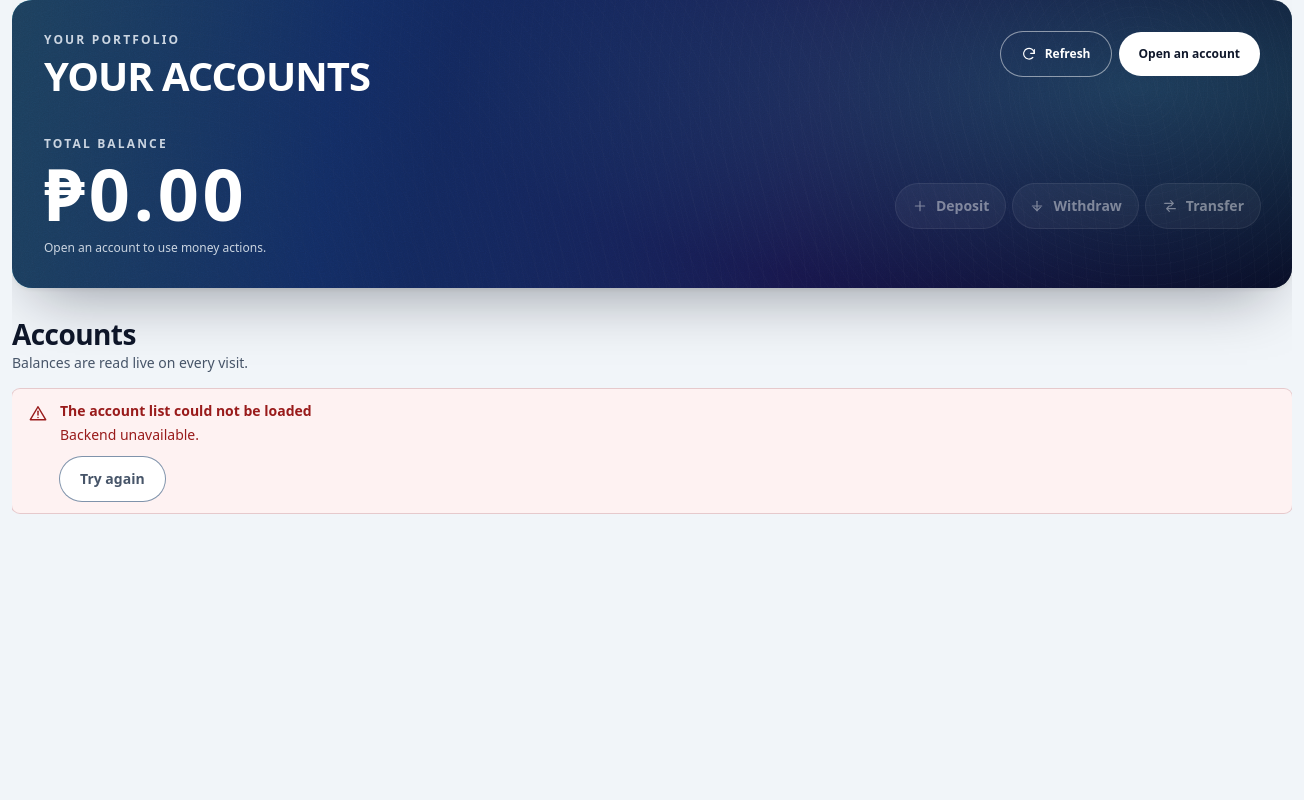
it: DashboardPage states › reports a failed list and recovers when the user retries
expect the message shows "The account list could not be loaded": met, box [60,401,312,420]
expect the message shows "Backend unavailable.": met, box [60,425,199,444]
Step 1. Click the button "Try again" → (112, 479), box [60,457,165,501]
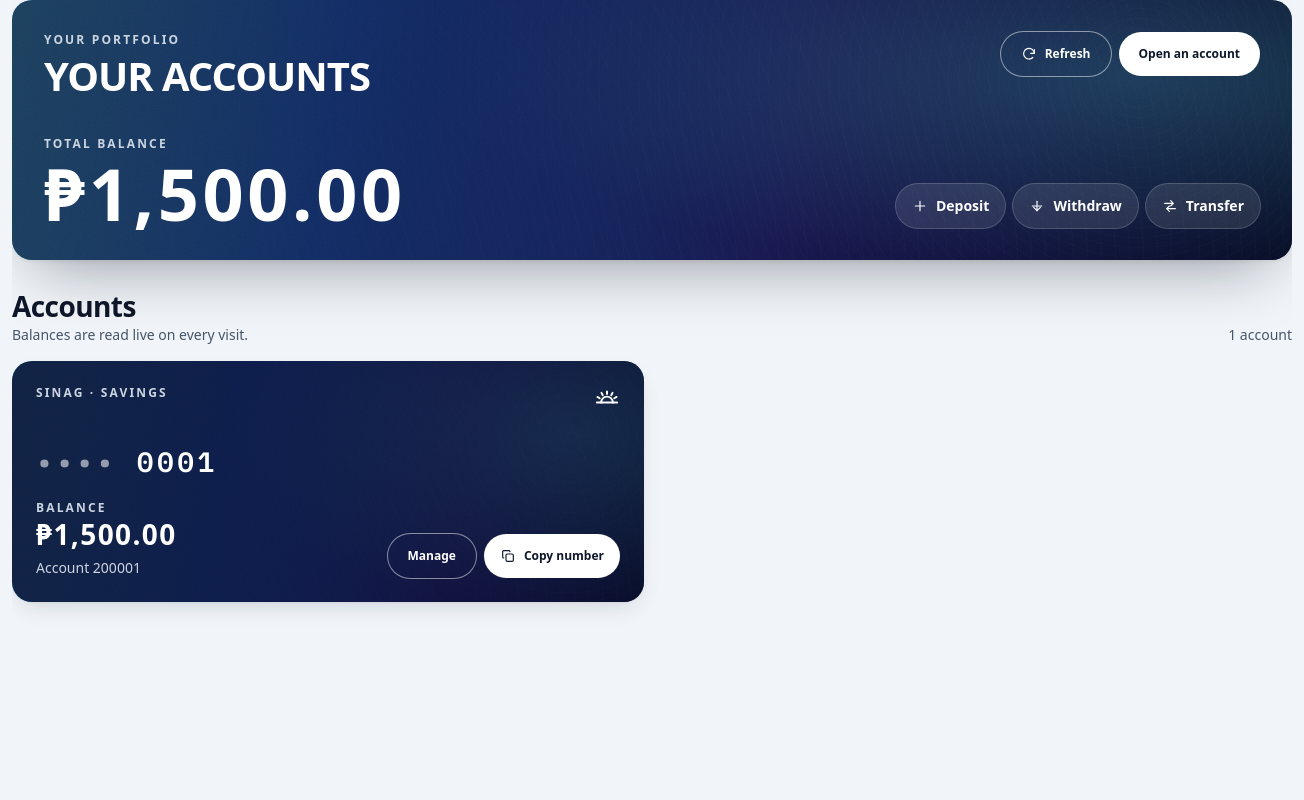
expect the text "Account 200001" is shown: met, box [36,558,141,577]
expect the message "The account list could not be loaded Backend unavailable. Try again" is gone: met
